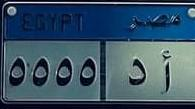5: (53, 49, 76, 93), (4, 49, 27, 88), (78, 55, 97, 94), (28, 55, 49, 90)
أ: (157, 45, 174, 99)
د: (126, 52, 149, 91)
